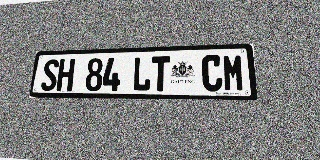4: (102, 57, 121, 91)
8: (85, 58, 104, 91)
C: (202, 55, 223, 91)
H: (56, 59, 75, 91)
L: (132, 57, 151, 91)
M: (222, 54, 245, 92)
S: (40, 59, 60, 91)
T: (151, 56, 170, 91)
